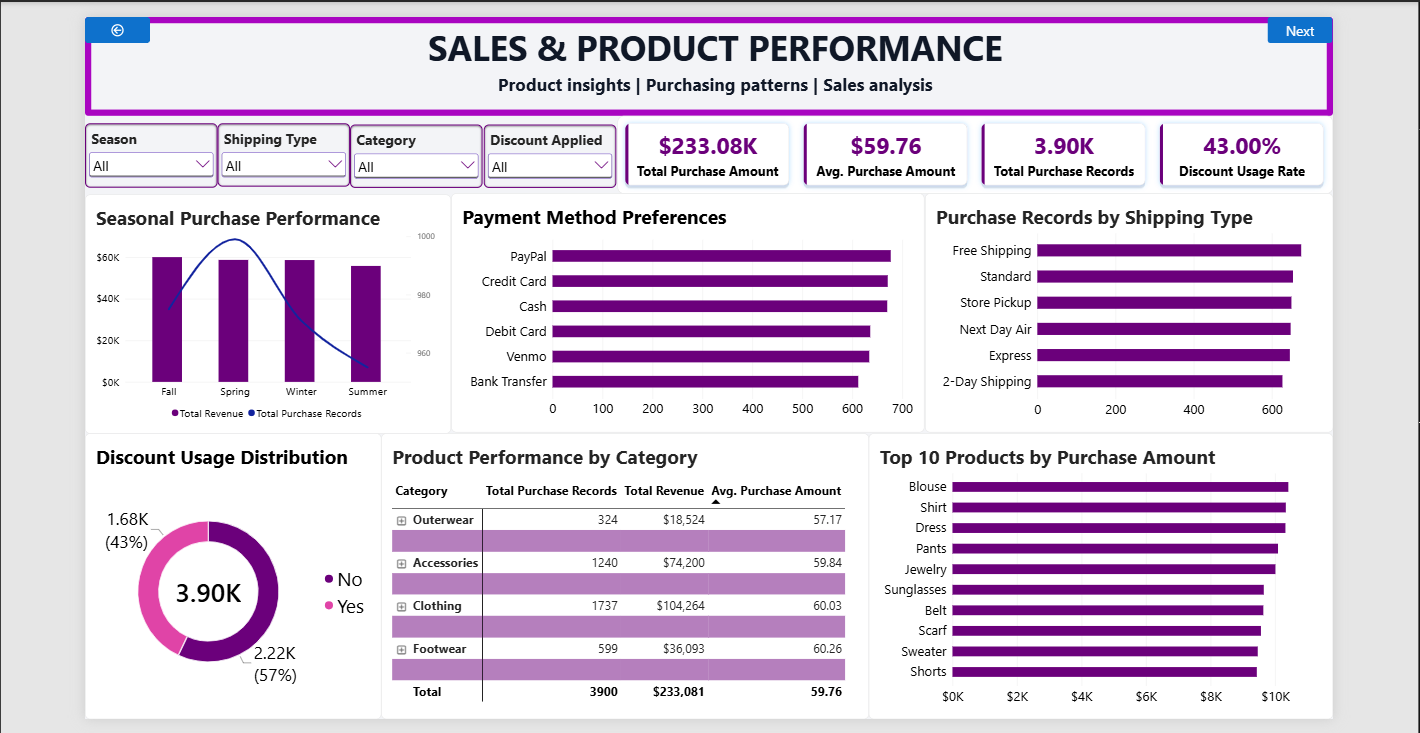

What the dashboard file says about the page in this screenshot:
{"tool":"powerbi","page":{"name":"Sales & Product Performance","canvas":[1920,1080],"ordinal":1},"visuals":[{"type":"textbox","title":"SALES & PRODUCT PERFORMANCE","box":[0,0,1920,152],"z":0},{"type":"cardVisual","fields":{"Data":["customer_data.Total Revenue","customer_data.Average Purchase Amount","customer_data.Total Purchase Records","customer_data.Discount Usage Rate"]},"box":[819,152.8,1100.6,119.6],"z":1000},{"type":"slicer","fields":{"Values":["customer_data.discount_applied"]},"box":[612.9,165.6,204.3,97.5],"z":2000},{"type":"slicer","fields":{"Values":["customer_data.category"]},"box":[408.6,165.6,204.3,97.5],"z":3000},{"type":"slicer","fields":{"Values":["customer_data.season"]},"box":[0,163.8,204.3,99.4],"z":4000},{"type":"slicer","fields":{"Values":["customer_data.shipping_type"]},"box":[204.3,163.8,204.3,97.5],"z":5000},{"type":"actionButton","box":[0,0,100,40],"z":6000},{"type":"clusteredBarChart","title":"Top 10 Products by Purchase Amount","fields":{"Category":["customer_data.item_purchased"],"Y":["customer_data.Total Revenue"]},"box":[1206,640,714,440],"z":7000},{"type":"lineClusteredColumnComboChart","title":"Seasonal Purchase Performance","fields":{"Category":["customer_data.season"],"Y":["customer_data.Total Revenue"],"Y2":["customer_data.Total Purchase Records"]},"box":[0,272.4,563.2,368.1],"z":8000},{"type":"clusteredBarChart","title":"Payment Method Preferences","fields":{"Category":["customer_data.payment_method"],"Y":["customer_data.Total Purchase Records"]},"box":[564,272,728,368],"z":9000},{"type":"clusteredBarChart","title":"Purchase Records by Shipping Type","fields":{"Category":["customer_data.shipping_type"],"Y":["customer_data.Total Purchase Records"]},"box":[1292,272,628,368],"z":10000},{"type":"donutChart","title":"Discount Usage Distribution","fields":{"Category":["customer_data.discount_applied"],"Y":["customer_data.Total Purchase Records"]},"box":[0,640,456,440],"z":11000},{"type":"pivotTable","title":"Product Performance by Category","fields":{"Rows":["customer_data.category","customer_data.item_purchased"],"Values":["customer_data.Total Purchase Records","customer_data.Total Revenue","customer_data.Average Purchase Amount"]},"box":[456,640,750,440],"z":12000},{"type":"actionButton","box":[1820,0,100,40],"z":12001}]}

Visuals, with their boxes on the page's 1920x1080 design canvas (x1, y1, x2, y2). These are canvas units, not pixel positions in the 1420x733 screenshot, which may show the page scaled, cropped or inside an application window:
"SALES & PRODUCT PERFORMANCE" textbox: x1=0, y1=0, x2=1920, y2=152
cardVisual - customer_data.Total Revenue x customer_data.Average Purchase Amount: x1=819, y1=153, x2=1920, y2=272
slicer - customer_data.discount_applied: x1=613, y1=166, x2=817, y2=263
slicer - customer_data.category: x1=409, y1=166, x2=613, y2=263
slicer - customer_data.season: x1=0, y1=164, x2=204, y2=263
slicer - customer_data.shipping_type: x1=204, y1=164, x2=409, y2=261
actionButton: x1=0, y1=0, x2=100, y2=40
"Top 10 Products by Purchase Amount" clusteredBarChart: x1=1206, y1=640, x2=1920, y2=1080
"Seasonal Purchase Performance" lineClusteredColumnComboChart: x1=0, y1=272, x2=563, y2=640
"Payment Method Preferences" clusteredBarChart: x1=564, y1=272, x2=1292, y2=640
"Purchase Records by Shipping Type" clusteredBarChart: x1=1292, y1=272, x2=1920, y2=640
"Discount Usage Distribution" donutChart: x1=0, y1=640, x2=456, y2=1080
"Product Performance by Category" pivotTable: x1=456, y1=640, x2=1206, y2=1080
actionButton: x1=1820, y1=0, x2=1920, y2=40
